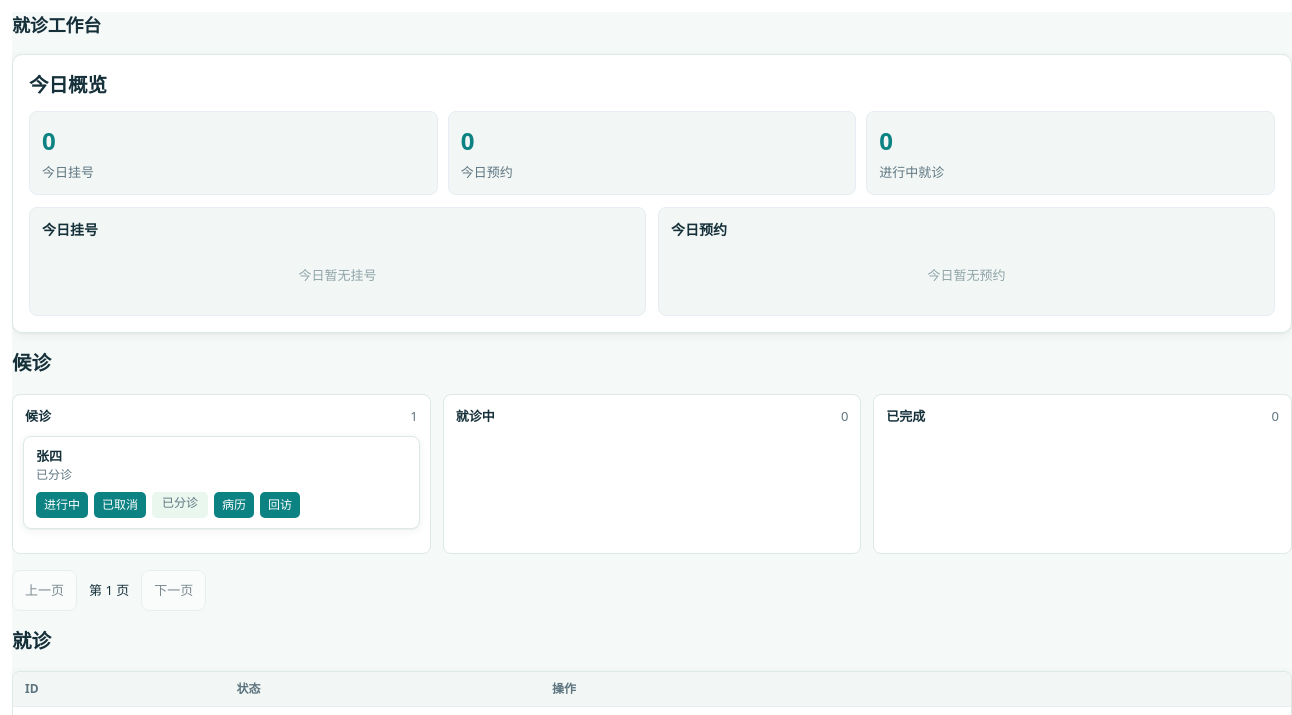
Test: ClinicalWorkflowPage › reports transition failures
This screenshot has width=1292, height=715.
Click the button "进行中" at [62, 505], box [36,492,88,518]
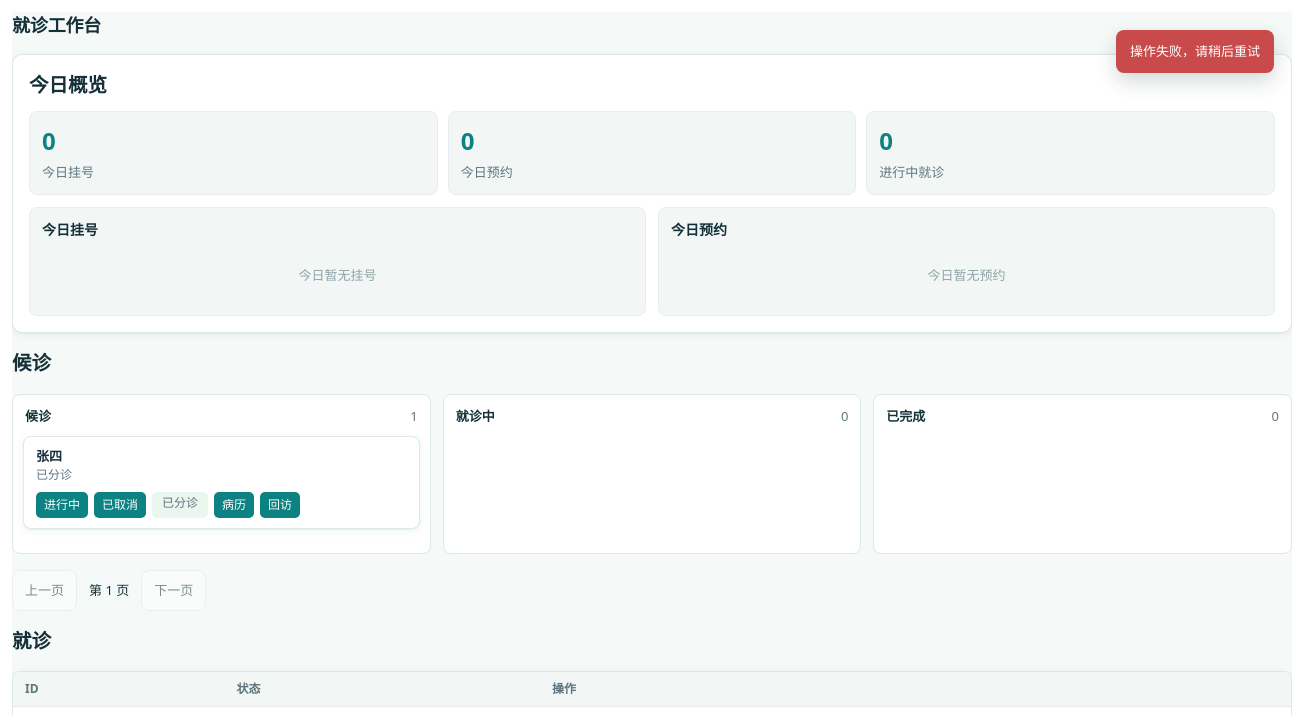
Expected: the text "操作失败，请稍后重试" is shown, [1116,30,1274,73]
Click the button "进行中" at [62, 505], box [36,492,88,518]
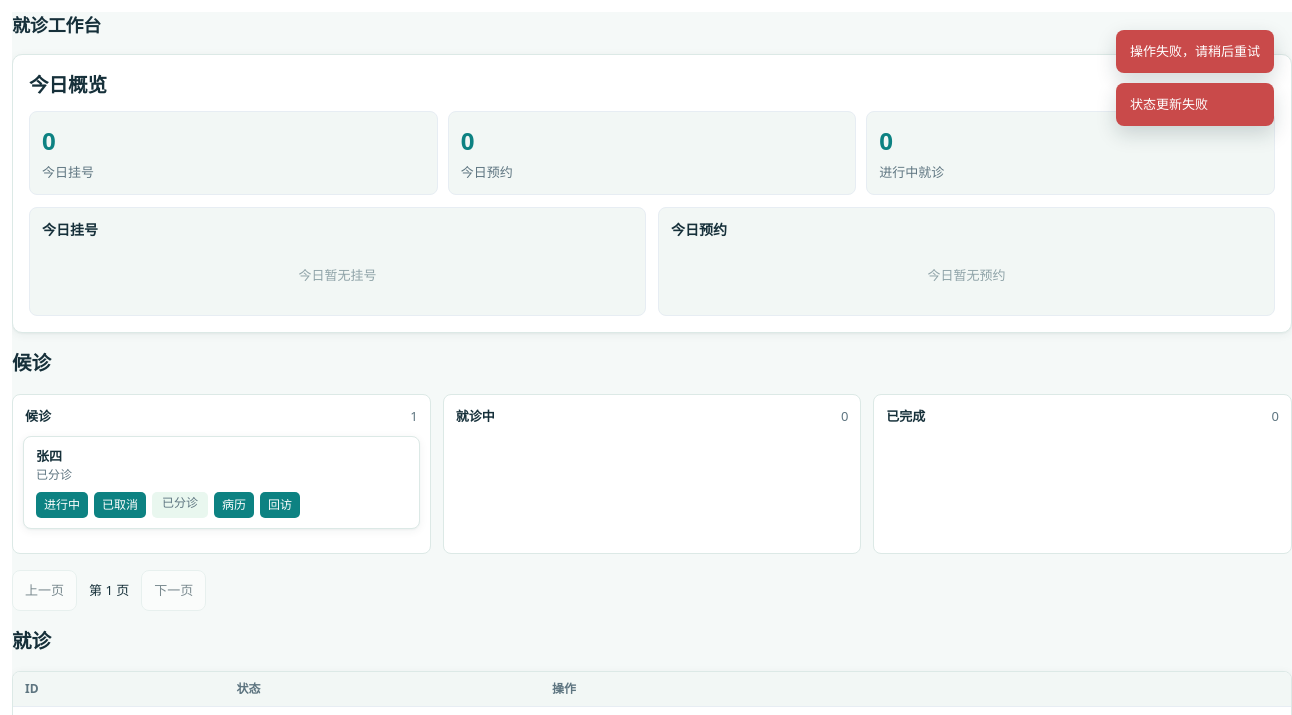
Expected: the text "状态更新失败" is shown, [1116,83,1274,126]
